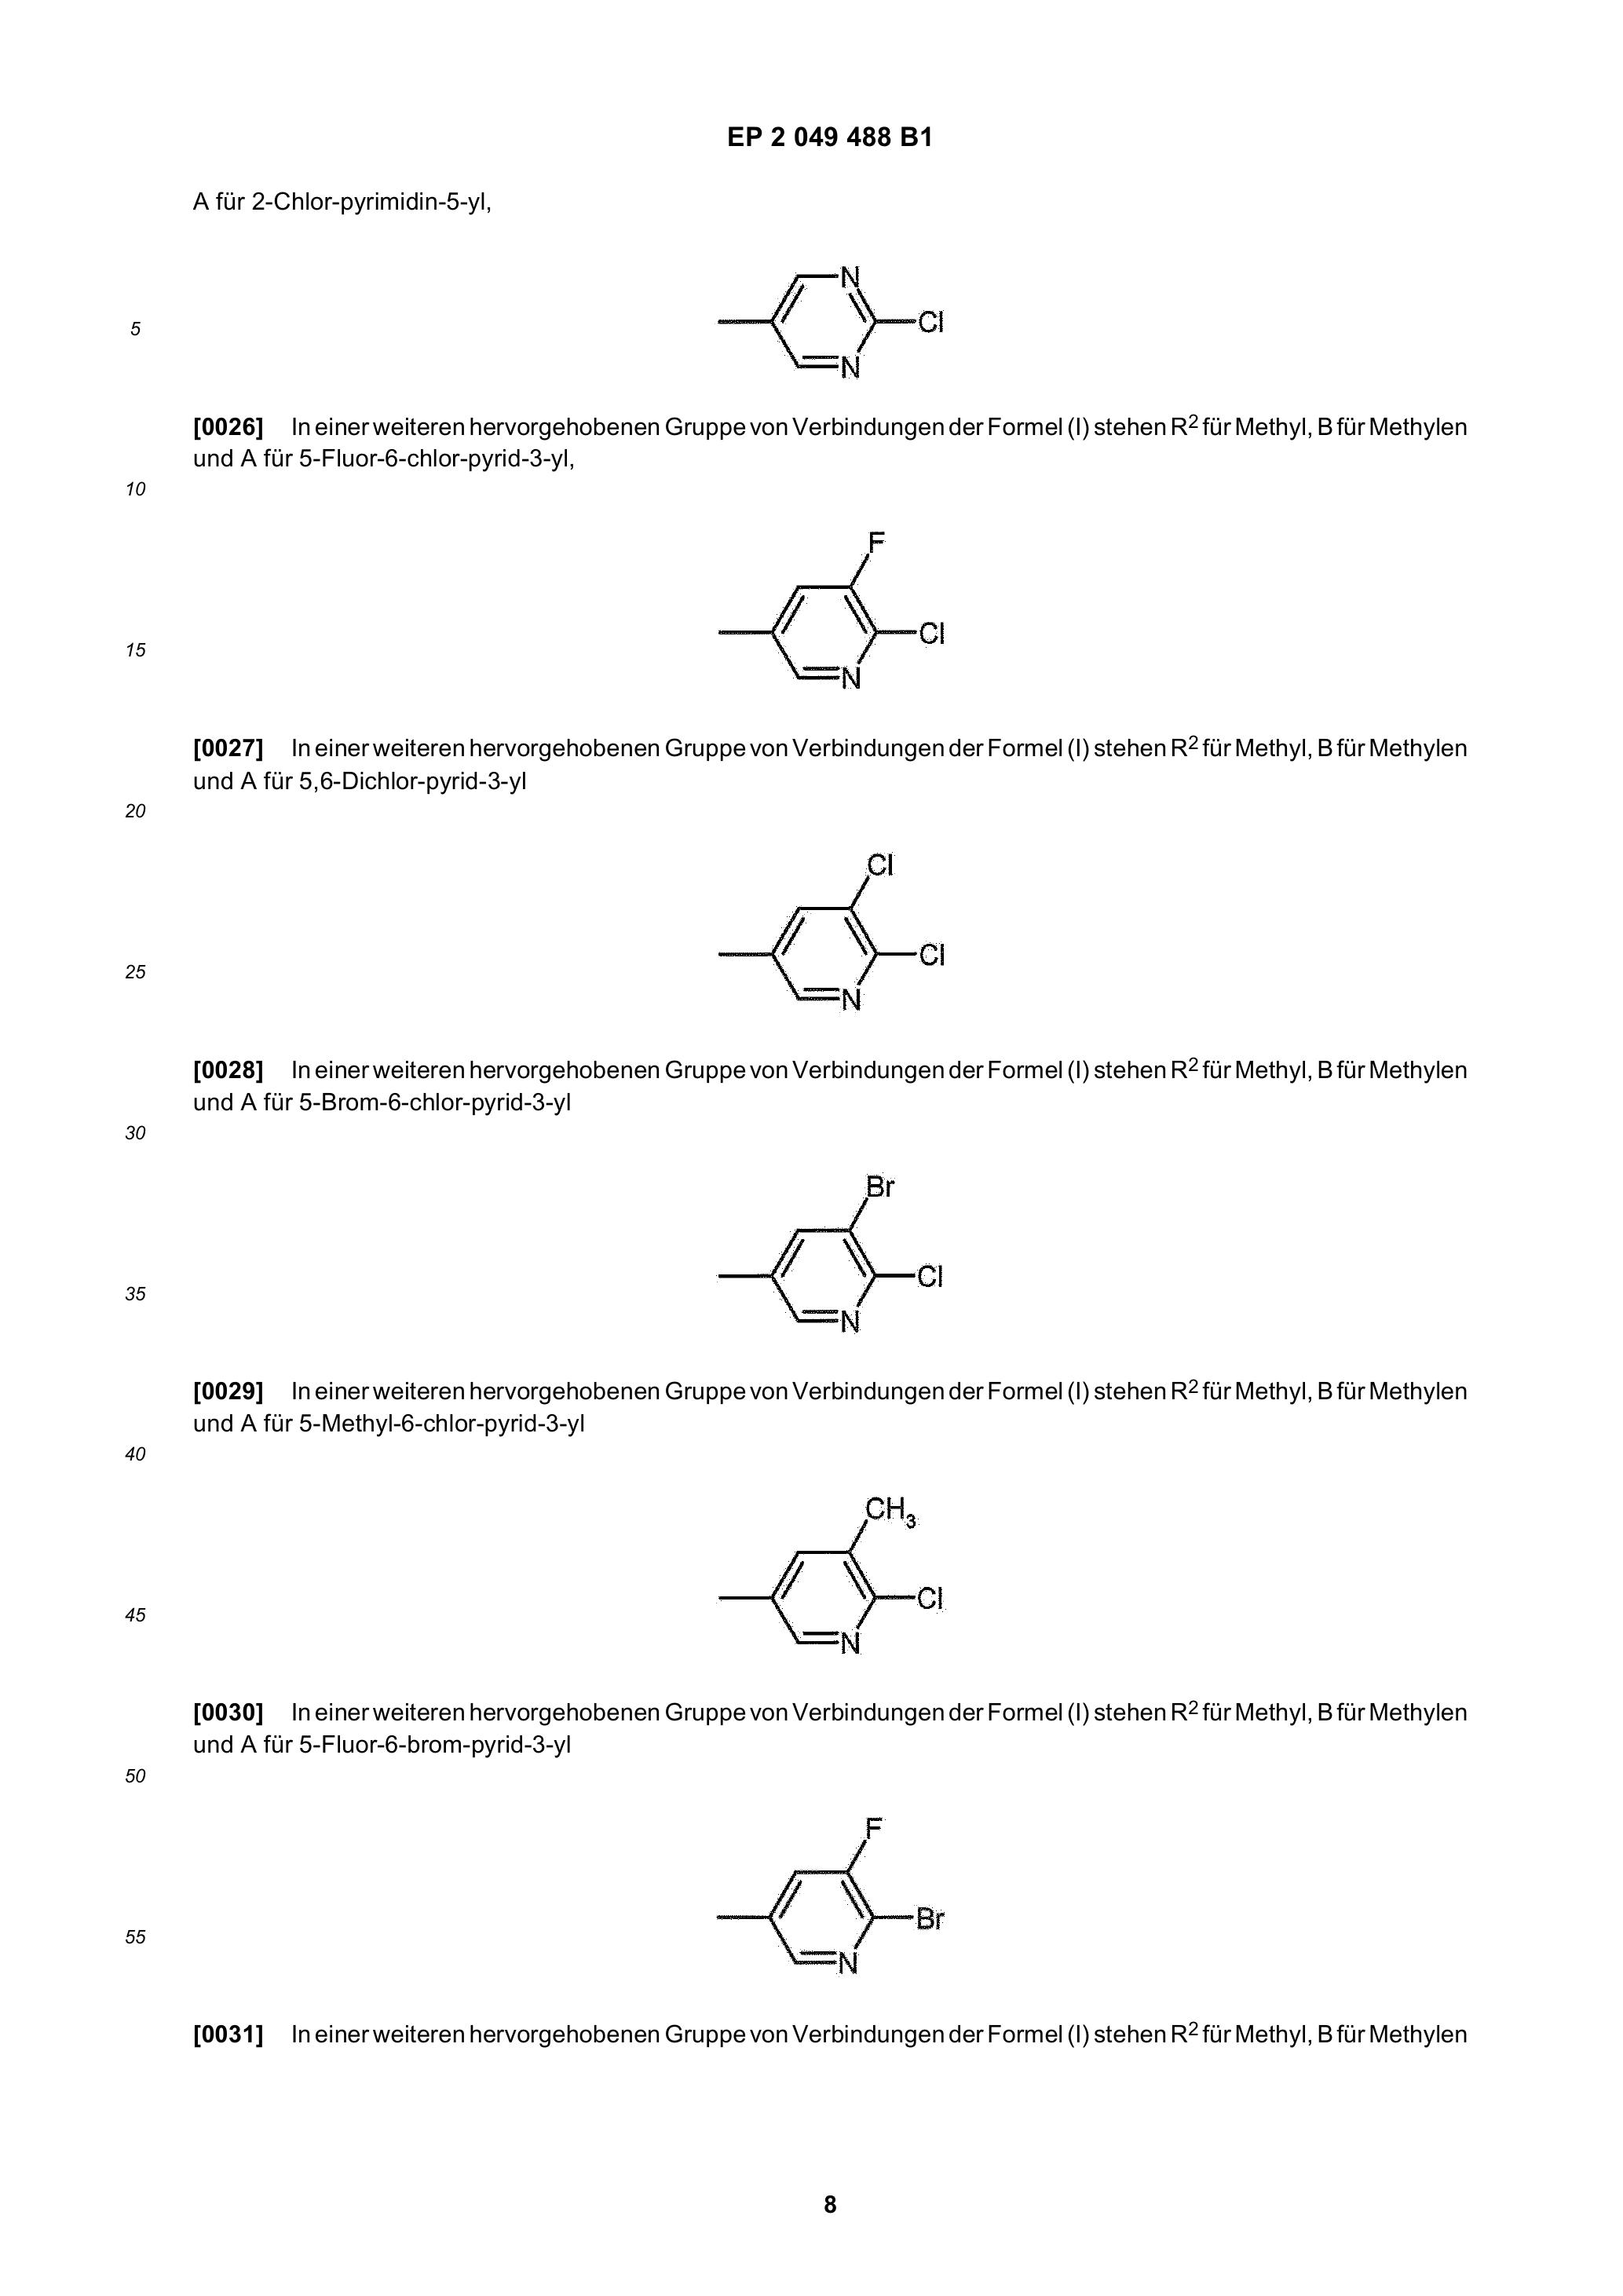intermediates: (692, 1446, 991, 1664), (690, 806, 970, 1031), (711, 1140, 966, 1351), (720, 483, 954, 710), (722, 1785, 954, 1997), (710, 200, 964, 383)
